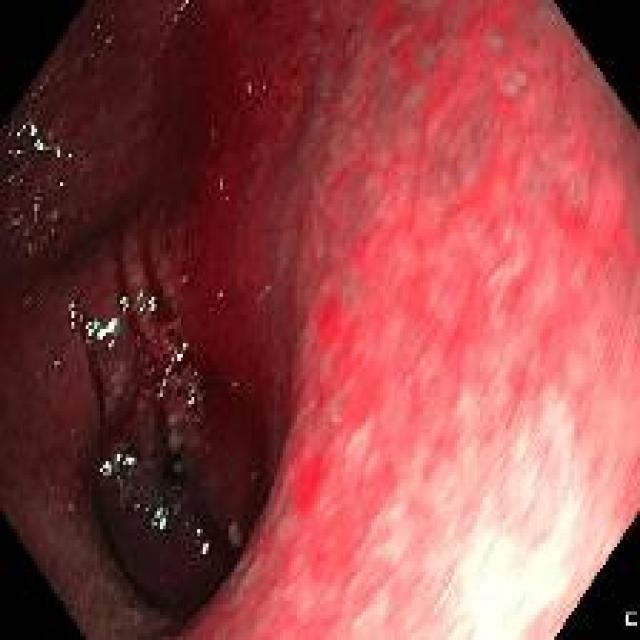blur: (294, 4, 636, 638)
contrast: (39, 302, 280, 606), (12, 8, 193, 256)
saturation: (342, 357, 614, 639)
specularity: (82, 316, 120, 351), (101, 446, 136, 480), (133, 286, 158, 316), (150, 504, 168, 533), (117, 289, 131, 316), (67, 300, 77, 329), (33, 138, 46, 151), (28, 122, 39, 137), (16, 123, 27, 136), (201, 541, 211, 555), (57, 177, 67, 189), (173, 350, 184, 360), (14, 145, 22, 156), (195, 526, 203, 537), (158, 389, 166, 398), (54, 145, 61, 155), (188, 395, 194, 406), (65, 151, 72, 160)
